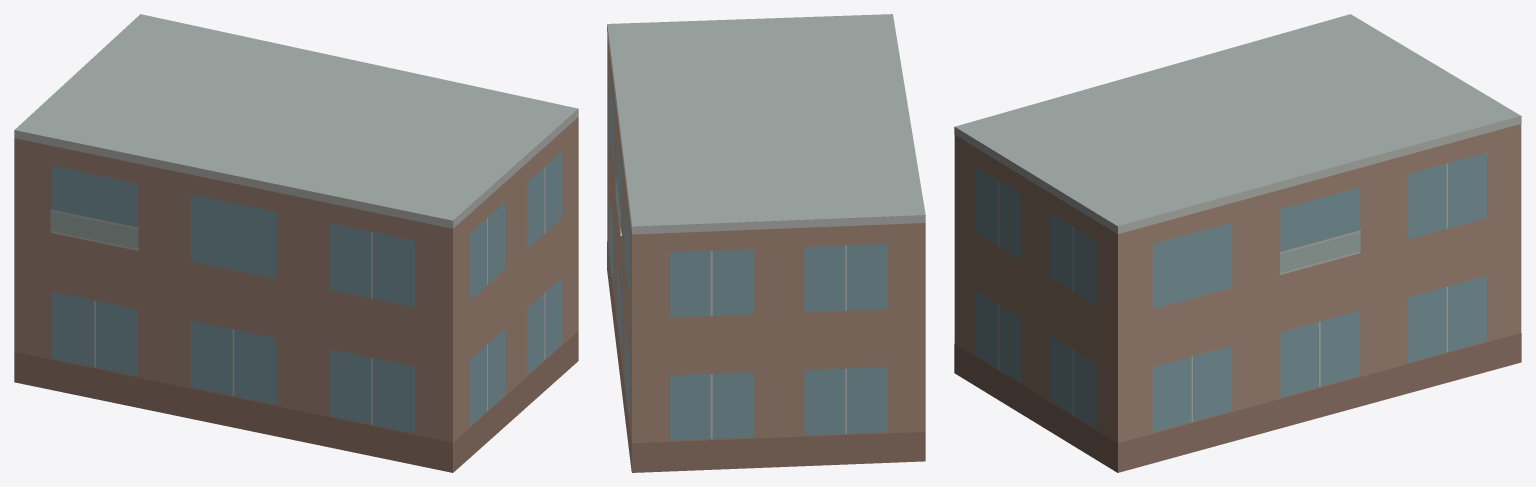
Rendered from survey-upis-32624901.glb.
3 views of the same model, side by side, from view 1: azimuth 30°, elevation 25°; view 2: azimuth 150°, elevation 25°; view 3: azimuth 270°, elevation 25° (orthographic). The views are drawn at different scales.
Parts seen in each view (by area): view 1: survey-upis-32624901.tmp; view 2: survey-upis-32624901.tmp; view 3: survey-upis-32624901.tmp.
Boxes of the visible parts, bbox=[...] form: survey-upis-32624901.tmp: bbox=[14, 14, 578, 472]; survey-upis-32624901.tmp: bbox=[607, 14, 925, 472]; survey-upis-32624901.tmp: bbox=[954, 14, 1521, 472].
Size of the model in its own units: 14.05 by 7.6 by 15.85.
